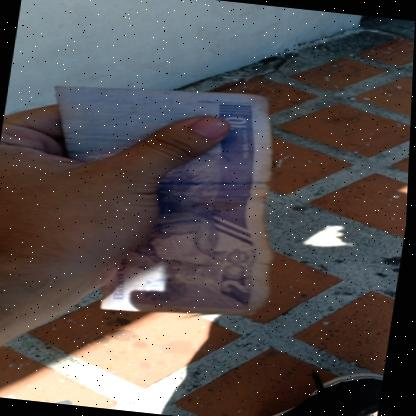ten-back-vef: (23, 73, 303, 320)
